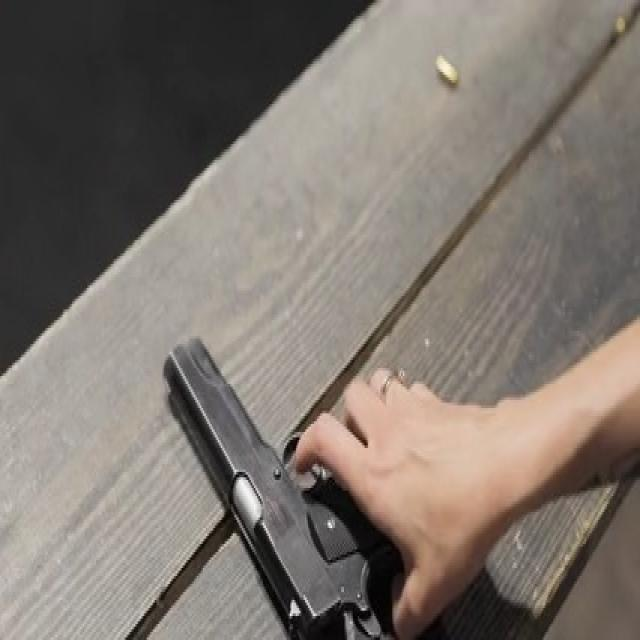Gun_Holder: (152, 323, 415, 640)
